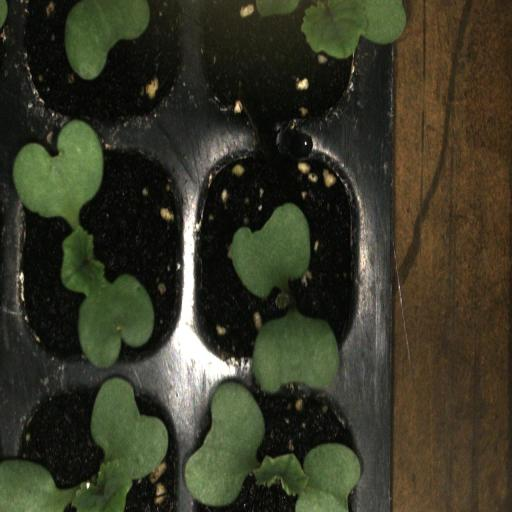seedling: (188, 134, 376, 373), (16, 124, 189, 371), (189, 372, 376, 512), (16, 375, 188, 512)
